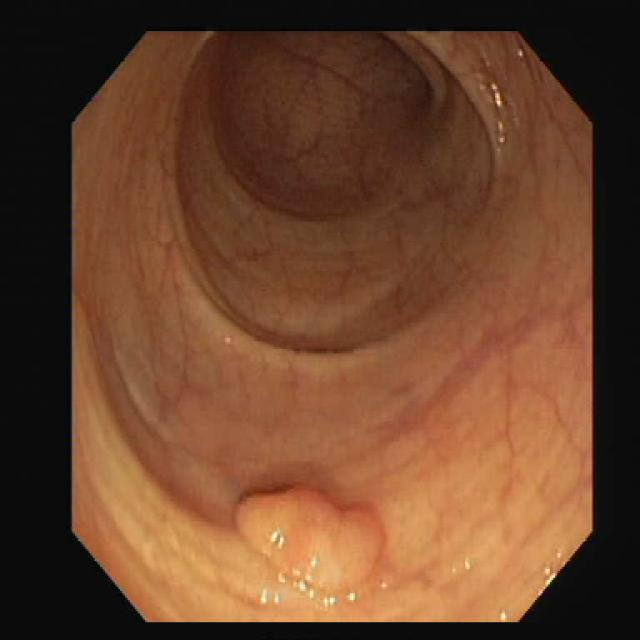tumor: (238, 487, 378, 589)
